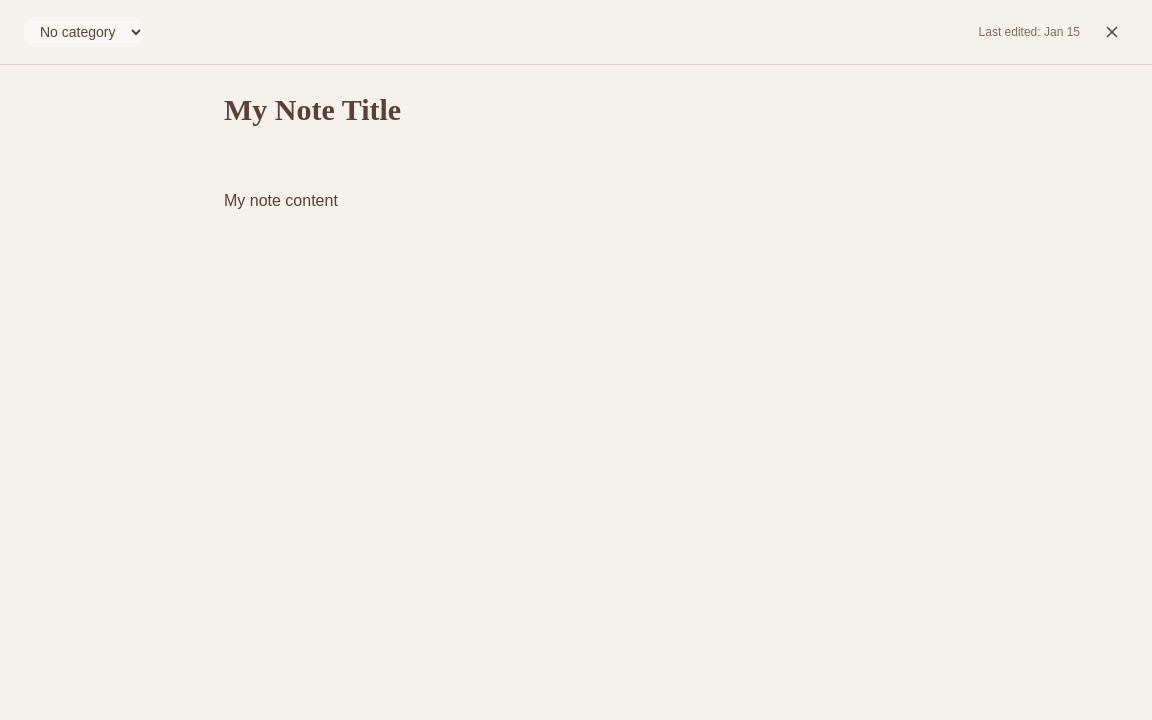
NoteEditor › close behavior › shows save error and Retry/Discard buttons when close-flush fails
The image size is (1152, 720).
Replace the text in the 1st text box showing "My Note Title" with "Unsaved Title" at (576, 130), box [224, 89, 928, 172]
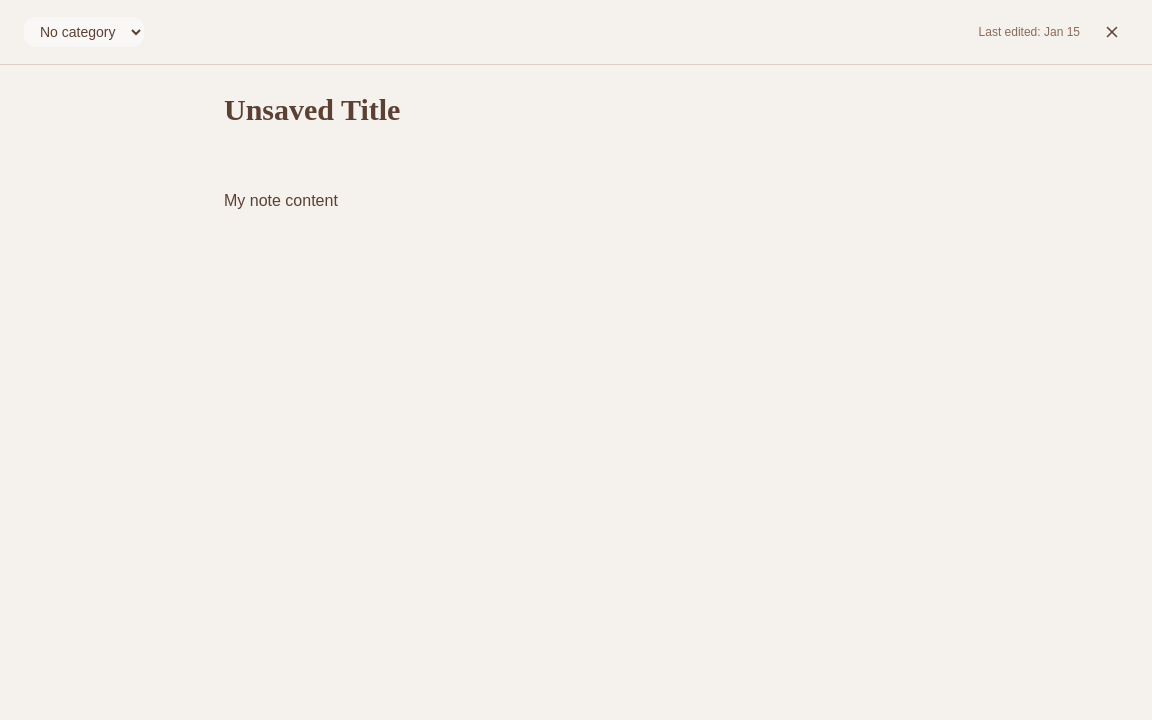
Click the button named "close note" at (1112, 32), box [1096, 16, 1128, 48]
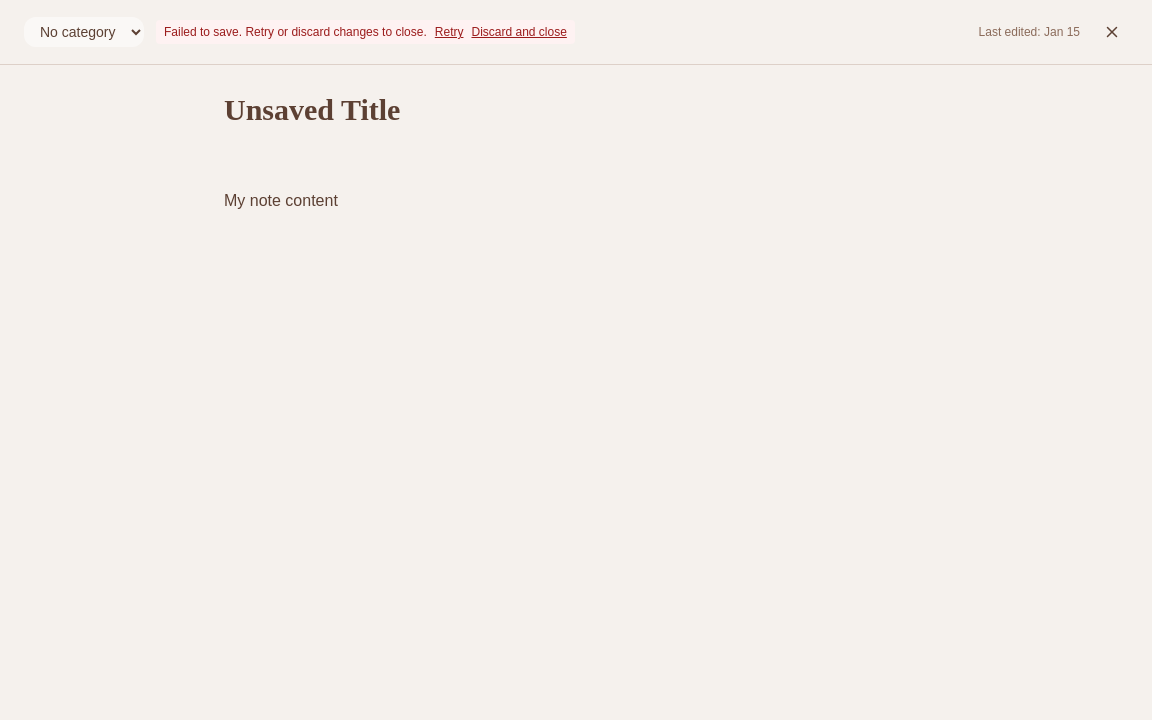
Expected: the button "Retry" is shown, [435, 24, 464, 40]
Expected: the button "Discard and close" is shown, [472, 24, 567, 40]
